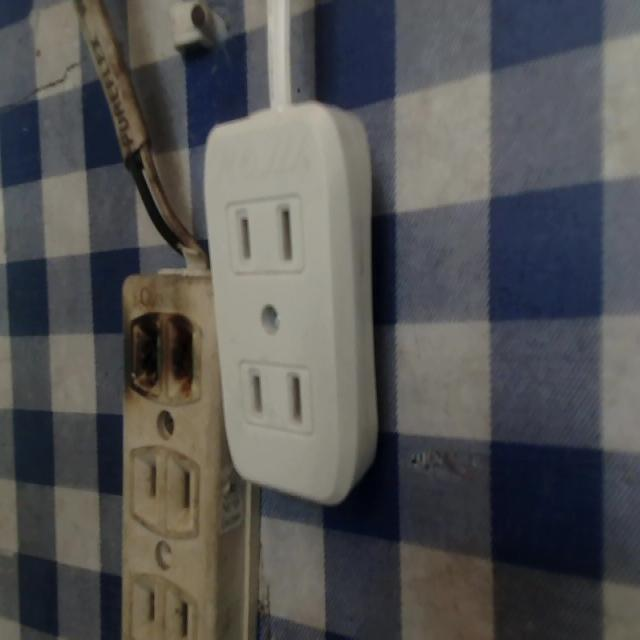-: (114, 300, 206, 407)
